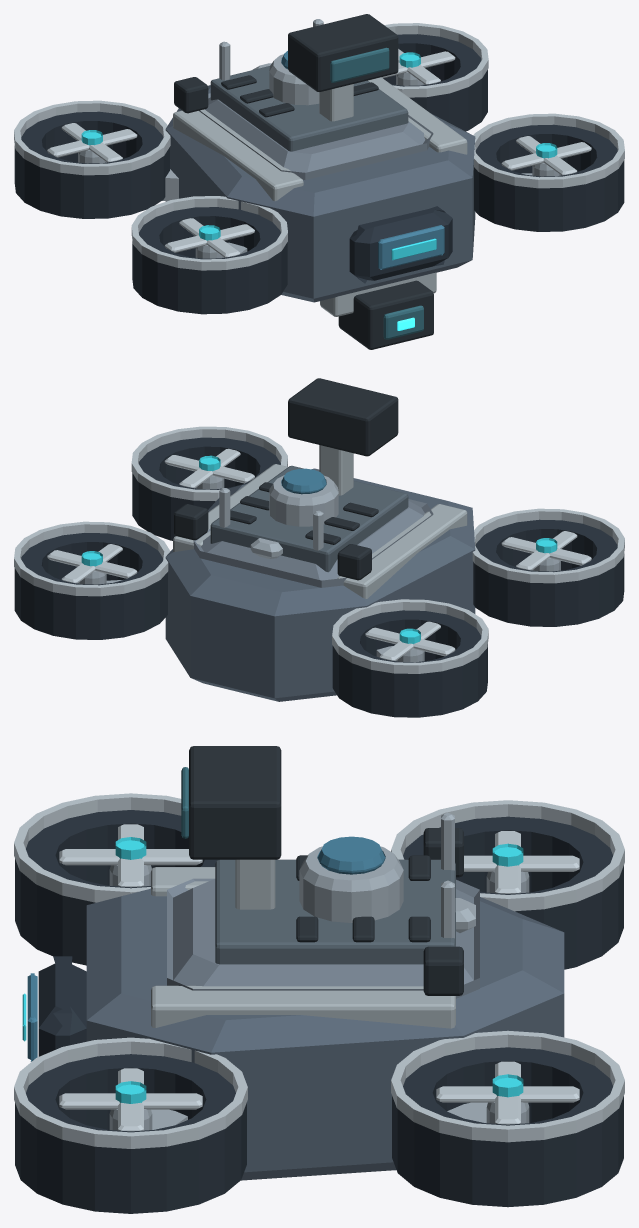
File: SF_ScoutDrone_GV.fbx
3 views of the same model, one above another, from view 1: azimuth 30°, elevation 25°; view 2: azimuth 150°, elevation 25°; view 3: azimuth 270°, elevation 25° (orthographic). The views are drawn at different scales.
Visible parts, largest first — view 1: ScoutChassis, VU_ScoutPrecisionAssembly, Rotor0, Rotor1, Rotor2, Rotor3; view 2: ScoutChassis, VU_ScoutPrecisionAssembly, Rotor0, Rotor1, Rotor2, Rotor3; view 3: ScoutChassis, VU_ScoutPrecisionAssembly, Rotor3, Rotor1, Rotor0, Rotor2.
Boxes of the visible parts, left/top/right/bottom form: ScoutChassis: left=14, top=19, right=624, bottom=314; VU_ScoutPrecisionAssembly: left=173, top=14, right=467, bottom=349; Rotor0: left=164, top=218, right=254, bottom=258; Rotor1: left=501, top=136, right=591, bottom=176; Rotor2: left=47, top=123, right=137, bottom=163; Rotor3: left=381, top=49, right=455, bottom=85; ScoutChassis: left=14, top=426, right=624, bottom=717; VU_ScoutPrecisionAssembly: left=173, top=378, right=467, bottom=598; Rotor0: left=501, top=531, right=591, bottom=571; Rotor1: left=164, top=448, right=254, bottom=489; Rotor2: left=365, top=621, right=455, bottom=662; Rotor3: left=47, top=544, right=137, bottom=584; ScoutChassis: left=14, top=793, right=624, bottom=1213; VU_ScoutPrecisionAssembly: left=151, top=746, right=463, bottom=1028; Rotor3: left=436, top=1061, right=579, bottom=1124; Rotor1: left=59, top=1068, right=202, bottom=1131; Rotor0: left=59, top=824, right=202, bottom=887; Rotor2: left=464, top=831, right=579, bottom=893.
Size of the model in its own units: 202 by 109 by 152.
